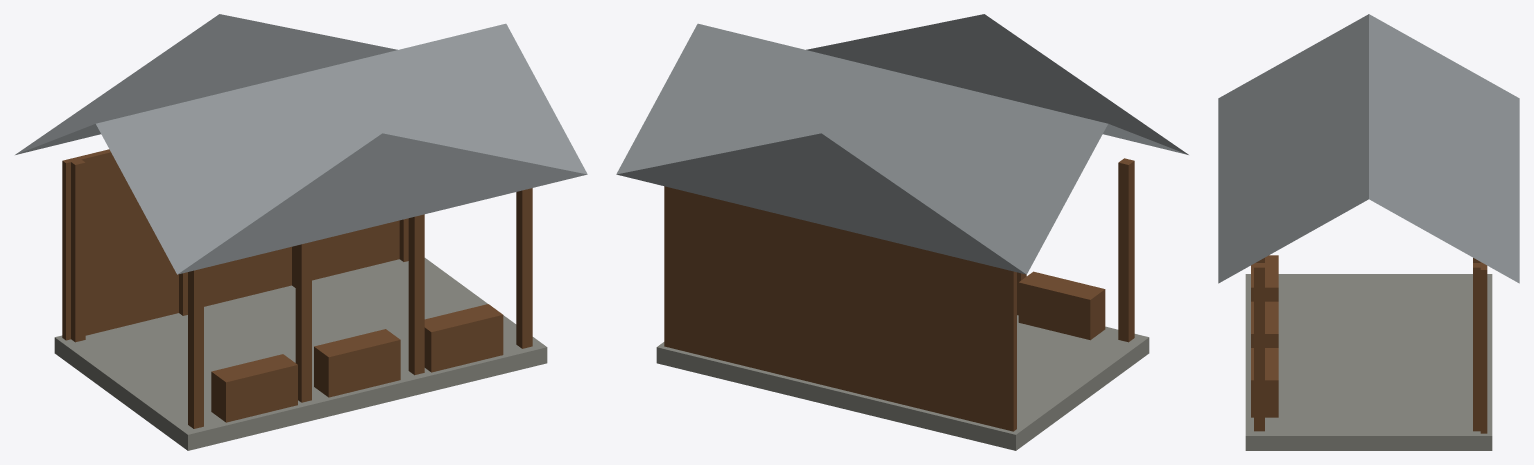
The model's file is gudang_sawmill.obj.
The picture shows the model from 3 angles, left to right: view 1: azimuth 30°, elevation 25°; view 2: azimuth 150°, elevation 25°; view 3: azimuth 270°, elevation 25°; orthographic projection. The views are drawn at different scales.
Visible parts, largest first — view 1: roof, slab, back_wall, log_pile, post_f, post_b; view 2: roof, back_wall, slab, log_pile, post_f; view 3: roof, slab, log_pile, post_f, post_b, back_wall.
Part boxes in pixels (<box>): roof: <box>15,14,587,274</box>; slab: <box>54,258,547,450</box>; back_wall: <box>62,149,399,340</box>; log_pile: <box>211,304,503,422</box>; post_f: <box>188,188,532,428</box>; post_b: <box>71,158,408,342</box>; roof: <box>616,14,1188,274</box>; back_wall: <box>664,186,1016,431</box>; slab: <box>656,315,1149,450</box>; log_pile: <box>1018,271,1105,340</box>; post_f: <box>1017,158,1134,342</box>; roof: <box>1218,14,1519,283</box>; slab: <box>1245,274,1492,450</box>; log_pile: <box>1251,255,1278,417</box>; post_f: <box>1254,258,1264,431</box>; post_b: <box>1473,258,1483,431</box>; back_wall: <box>1480,262,1487,433</box>.
Size of the model in its own units: 8 by 5.3 by 5.5.
